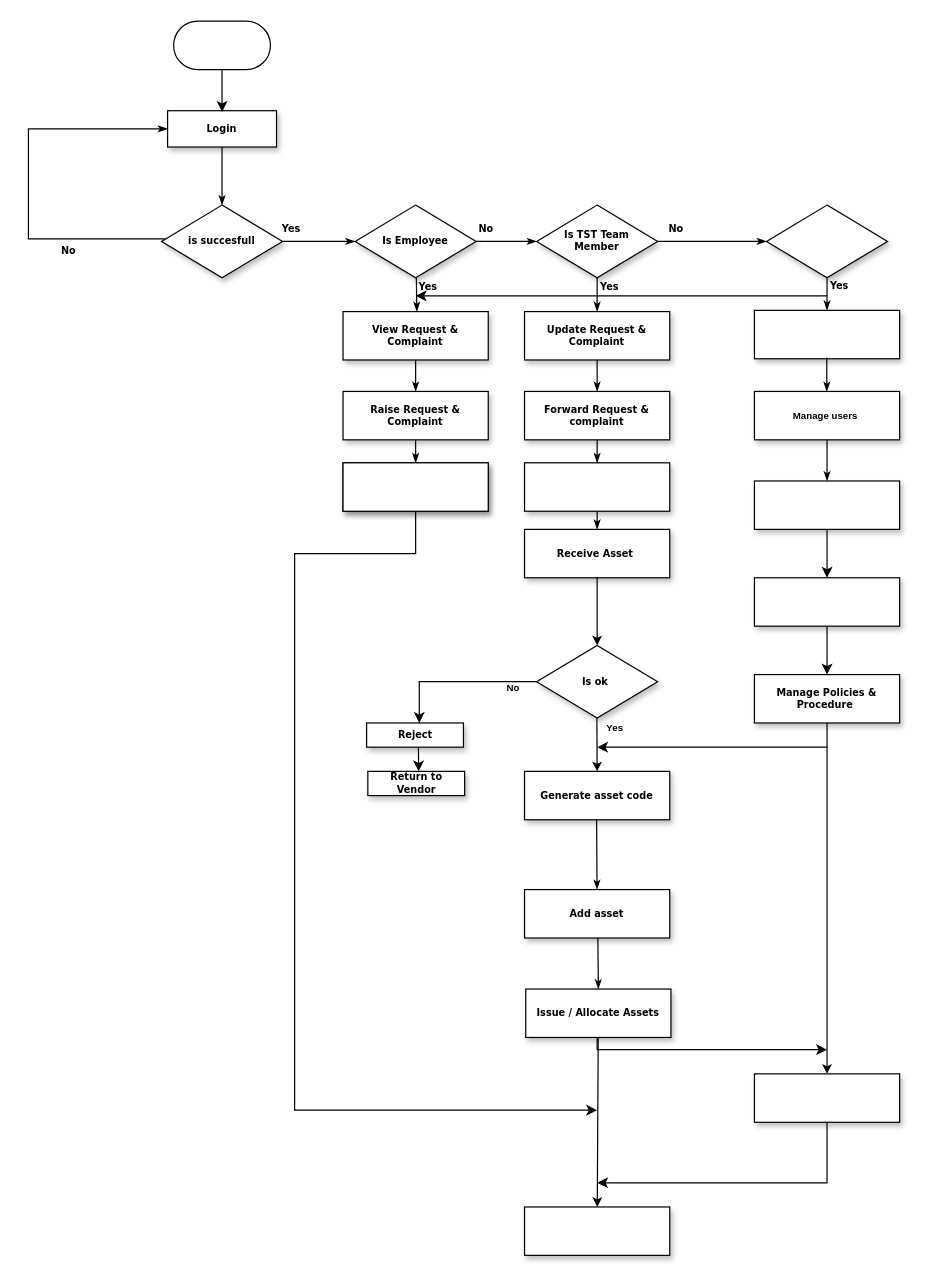
The diagram is 928 pixels wide and 1285 high, and some of its shapes have lost their labels. Here are the shapes that lost their labels. From the top down, the centre of each, then its label:
At pixel 221 45: "Start".
At pixel 827 242: "TST Admin".
At pixel 827 335: "Assign Request/ Complaint".
At pixel 416 488: "Close Request & Complaint".
At pixel 597 488: "Create Purchase request".
At pixel 827 506: "Manage Vendors".
At pixel 827 603: "Approve Purchase Order".
At pixel 827 1099: "View / Export Report".
At pixel 597 1232: "Logout".
